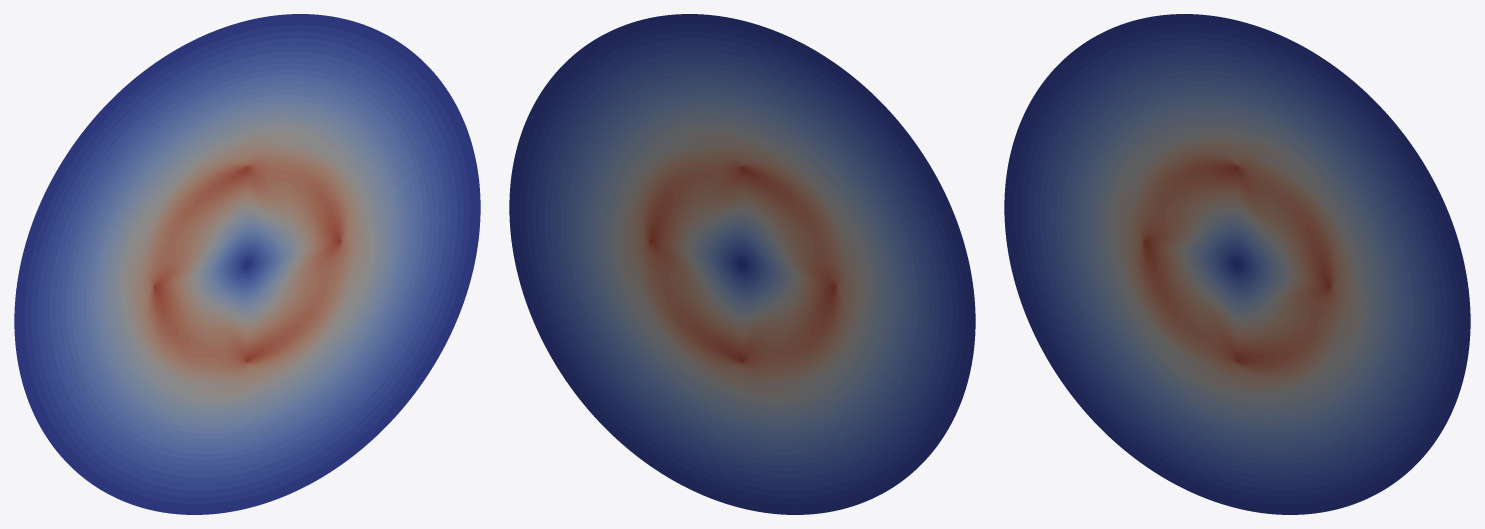
The picture shows the model from 3 angles, left to right: view 1: azimuth 30°, elevation 25°; view 2: azimuth 150°, elevation 25°; view 3: azimuth 330°, elevation 25°; orthographic projection.
Parts seen in each view (by area): view 1: Shape_IndexedFaceSet.007; view 2: Shape_IndexedFaceSet.007; view 3: Shape_IndexedFaceSet.007.
Boxes of the visible parts, x1,y1,x2,y2 form: Shape_IndexedFaceSet.007: [14, 14, 480, 514]; Shape_IndexedFaceSet.007: [509, 14, 975, 514]; Shape_IndexedFaceSet.007: [1004, 14, 1470, 514].
Bounding box in the file's own units: 100 × 100 × 2.22e-05.
